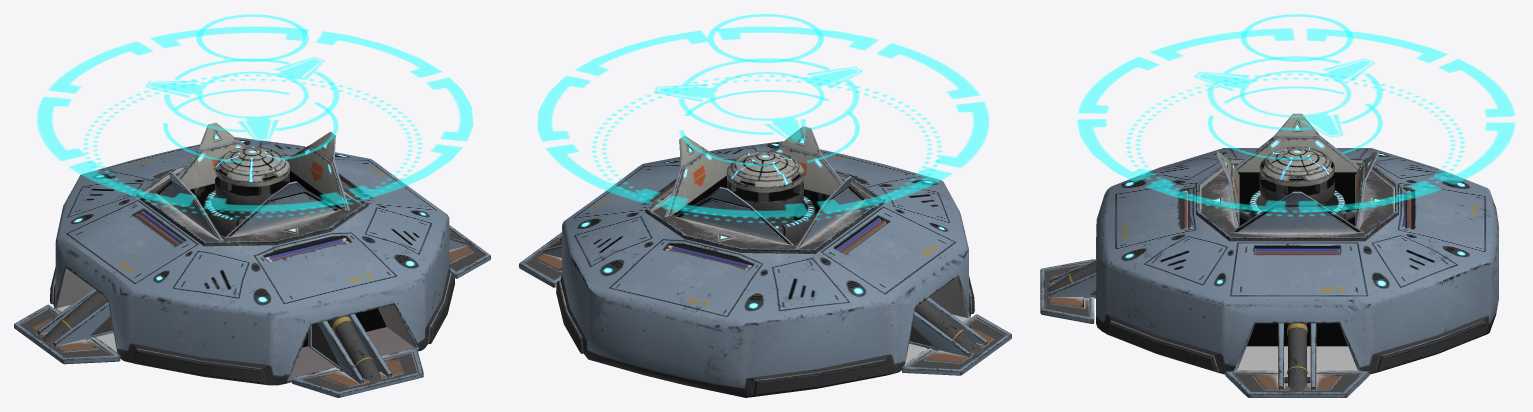
File: hologram_projector_with_hologram.glb
3 views of the same model, side by side, from view 1: azimuth 30°, elevation 25°; view 2: azimuth 150°, elevation 25°; view 3: azimuth 270°, elevation 25° (orthographic). The views are drawn at different scales.
Visible parts, largest first — view 1: Cube, Cylinder.218, Cylinder.220, Cylinder.219, Cylinder.221, Cylinder.222; view 2: Cube, Cylinder.218, Cylinder.220, Cylinder.219, Cylinder.221, Cylinder.222; view 3: Cube, Cylinder.218, Cylinder.220, Cylinder.219, Cylinder.221, Cylinder.222.
Boxes of the visible parts, box(x1,y1,x2,y2) form: Cube: box(14, 122, 490, 397); Cylinder.218: box(37, 26, 473, 211); Cylinder.220: box(145, 57, 339, 140); Cylinder.219: box(83, 74, 422, 217); Cylinder.221: box(163, 89, 338, 162); Cylinder.222: box(196, 14, 308, 61); Cube: box(519, 126, 1011, 397); Cylinder.218: box(537, 26, 989, 217); Cylinder.220: box(654, 58, 862, 142); Cylinder.219: box(592, 75, 941, 222); Cylinder.221: box(679, 90, 859, 166); Cylinder.222: box(707, 14, 823, 62); Cube: box(1040, 113, 1498, 397); Cylinder.218: box(1077, 28, 1515, 212); Cylinder.220: box(1194, 56, 1382, 137); Cylinder.219: box(1126, 73, 1464, 216); Cylinder.221: box(1208, 86, 1382, 160); Cylinder.222: box(1241, 14, 1352, 61).
Size of what is drawn, in the model's own units: 1.69 by 0.9761 by 1.63.
Materials: 2 (2 with a texture image).
